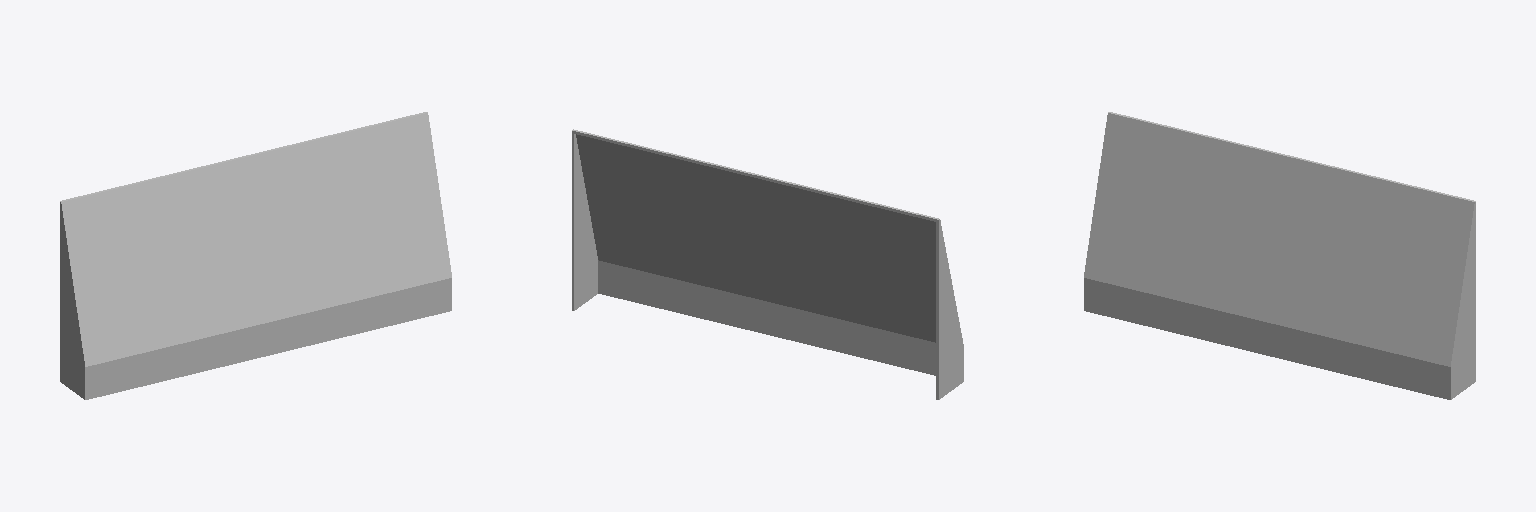
File: Awning_Small.obj
The picture shows the model from 3 angles: view 1: azimuth 30°, elevation 25°; view 2: azimuth 150°, elevation 25°; view 3: azimuth 330°, elevation 25°; orthographic projection.
Parts seen in each view (by area): view 1: Awning_Small; view 2: Awning_Small; view 3: Awning_Small.
Part boxes in pixels (x1,y1,x2,y2): Awning_Small: (60, 112, 451, 399); Awning_Small: (572, 129, 963, 399); Awning_Small: (1084, 112, 1475, 399).
Bounding box in the file's own units: 222 × 105 × 26.99.